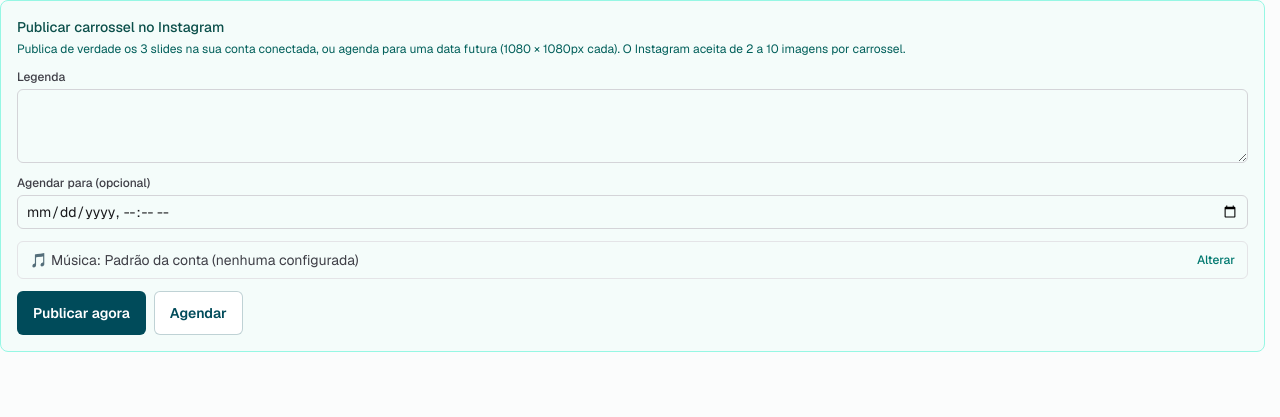
it: CarouselPublishPanel › "Publicar agora": gera um JPEG por slide (em sequência), sobe cada um, cria o post e publica — mostra sucesso
The width and height of the screenshot is (1280, 417).
Type "Minha legenda" into the text box labelled "Legenda" at (632, 126), box [17,89,1248,163]
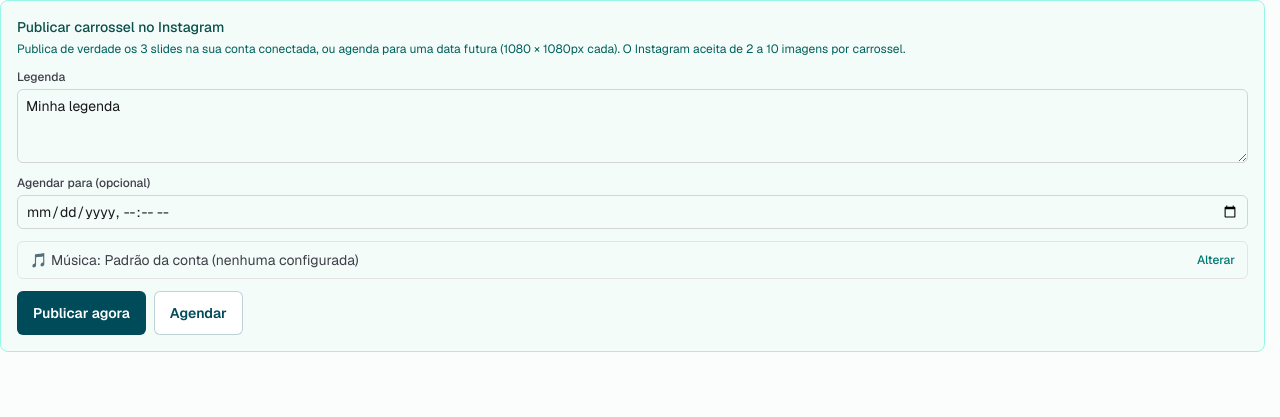
Click the button "Publicar agora" at (81, 313), box [17,291,146,335]
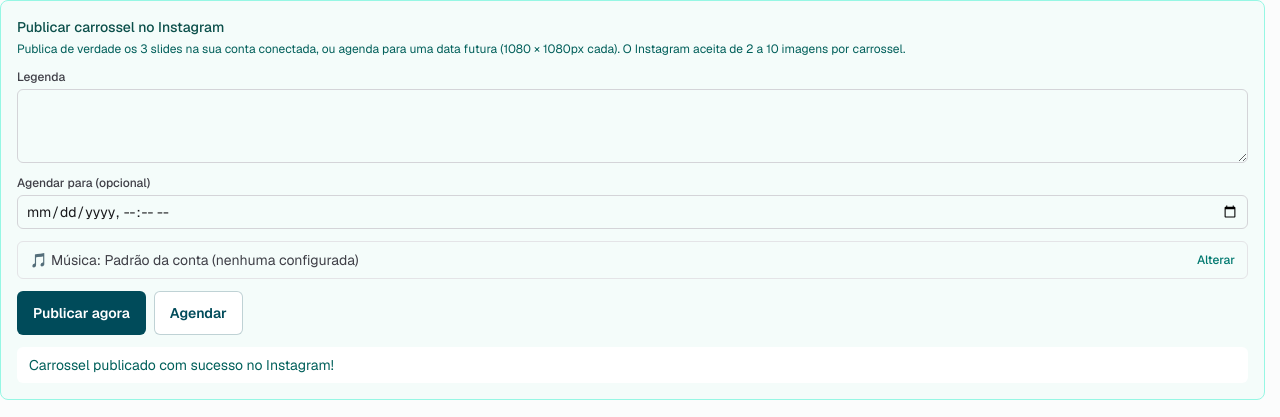
Now the message shows "Carrossel publicado com sucesso", box [29,356,334,374]
